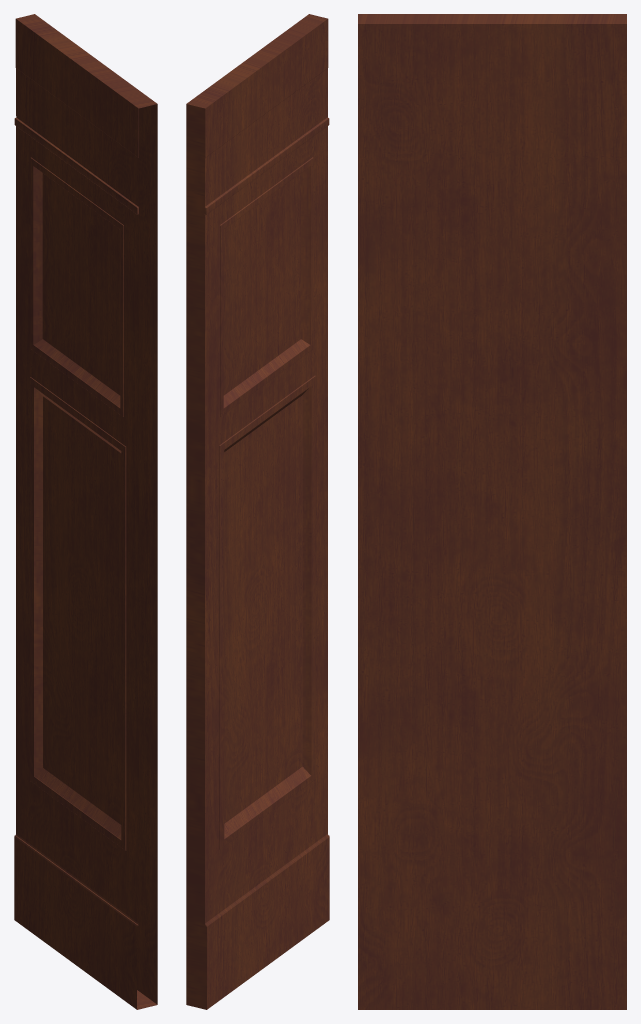
File: SM_VarnishWall01B.fbx
3 views of the same model, side by side, from view 1: azimuth 30°, elevation 25°; view 2: azimuth 150°, elevation 25°; view 3: azimuth 270°, elevation 25° (orthographic). The views are drawn at different scales.
Parts seen in each view (by area): view 1: SM_VarnishWall01B; view 2: SM_VarnishWall01B; view 3: SM_VarnishWall01B.
Part boxes in pixels (x1,y1,x2,y2): SM_VarnishWall01B: [14, 14, 157, 1009]; SM_VarnishWall01B: [186, 14, 329, 1009]; SM_VarnishWall01B: [358, 14, 626, 1009].
Bounding box in the file's own units: 4.39 × 45.48 × 184.
Materials: 1 (1 with a texture image).
